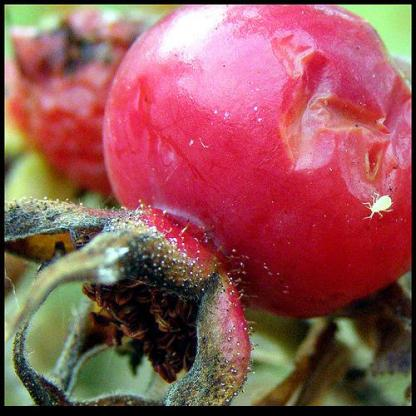aphid: (358, 176, 399, 229)
